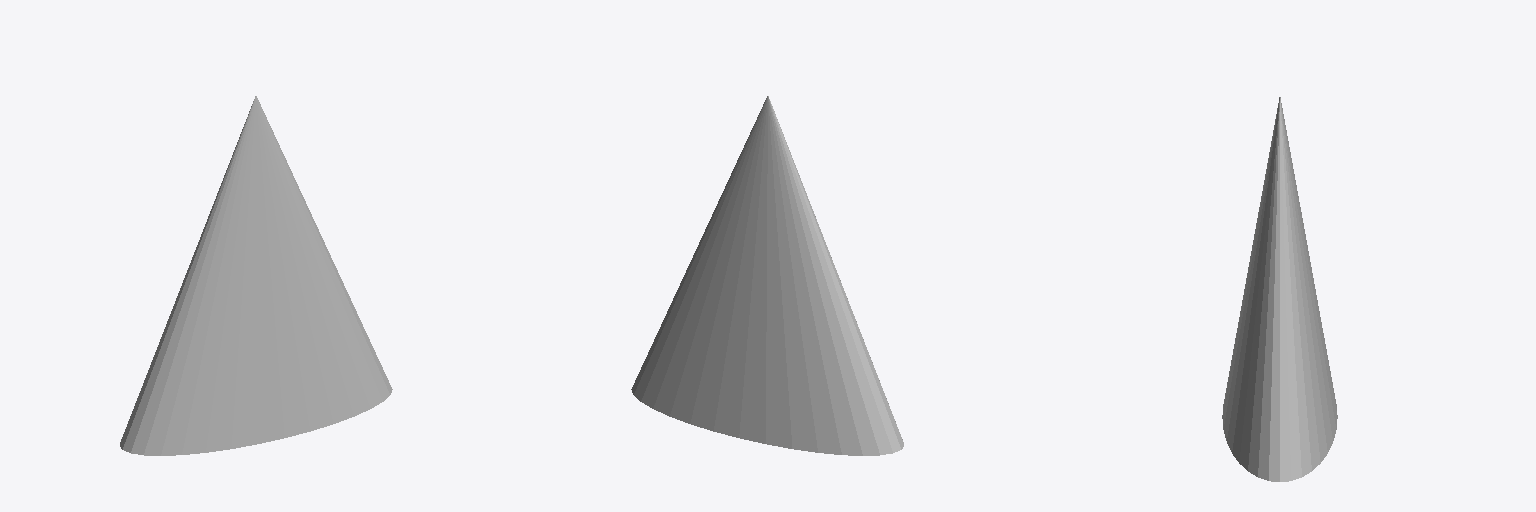
File: SquidBottomBody.obj
3 views of the same model, side by side, from view 1: azimuth 30°, elevation 25°; view 2: azimuth 150°, elevation 25°; view 3: azimuth 270°, elevation 25° (orthographic).
Visible parts, largest first — view 1: 원뿔; view 2: 원뿔; view 3: 원뿔.
Part boxes in pixels (x1,y1,x2,y2): 원뿔: (120, 96, 392, 455); 원뿔: (631, 96, 903, 455); 원뿔: (1222, 97, 1337, 481).
Bounding box in the file's own units: 0.2585 × 0.2982 × 0.0966.